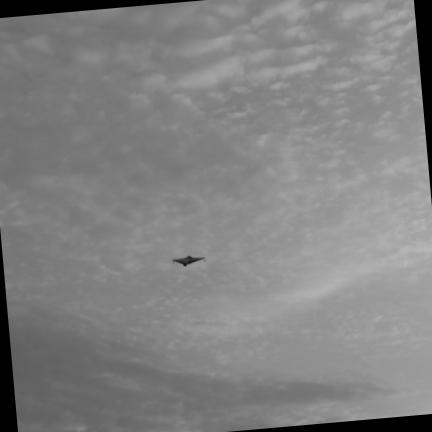Shahed: (173, 256, 204, 265)
